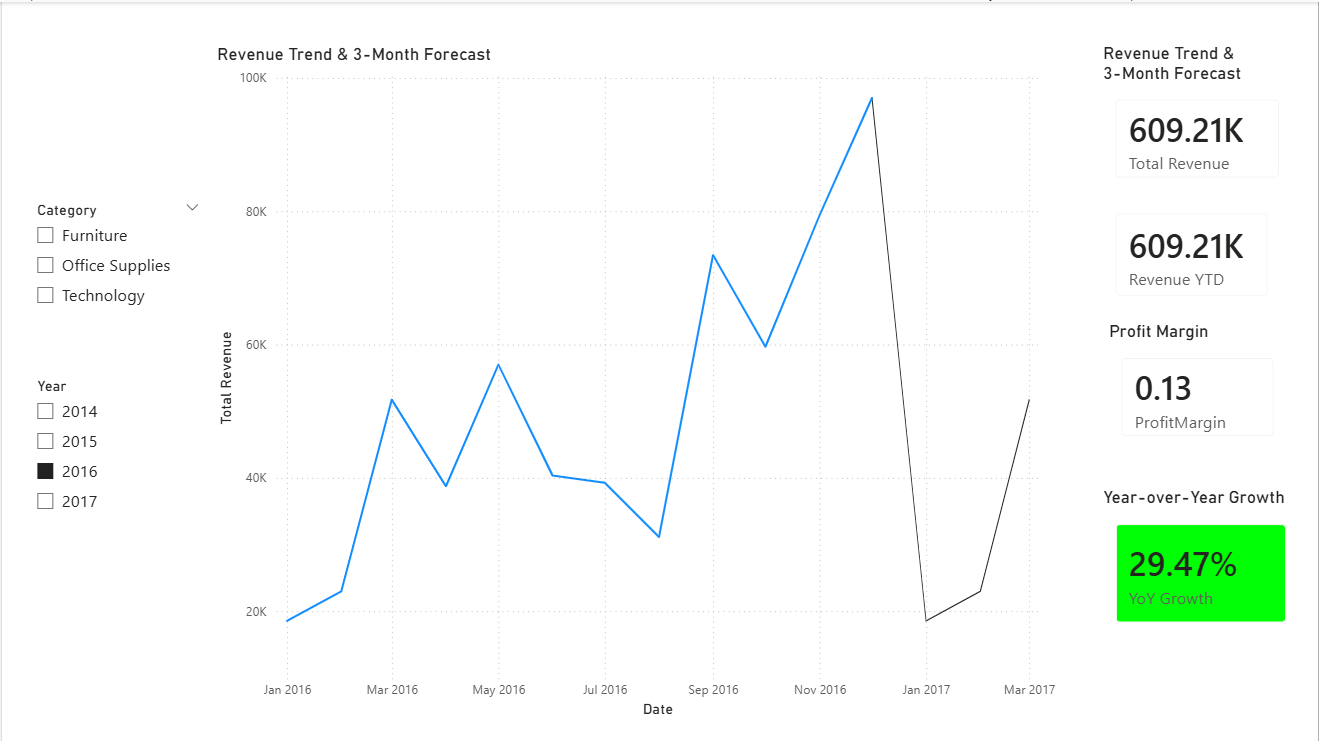

The page's visual inventory and layout, read from the dashboard file:
{"tool":"powerbi","page":{"name":"Page 1","canvas":[1280,720],"ordinal":0},"visuals":[{"type":"lineChart","title":"Revenue Trend & 3-Month Forecast","fields":{"Y":["vw_SalesForecast.Total Revenue"],"Category":["DateTable.Date"]},"box":[204.3,40.9,825.8,659.5],"z":0},{"type":"slicer","fields":{"Values":["vw_SalesForecast.Category"]},"box":[21.4,188.6,182.9,121.4],"z":1000},{"type":"cardVisual","title":"Revenue Trend & 3-Month Forecast","fields":{"Data":["vw_SalesForecast.Total Revenue"]},"box":[1066,39.9,193.6,148.8],"z":2000},{"type":"cardVisual","title":"Year-over-Year Growth","fields":{"Data":["vw_SalesForecast.YoY Growth"]},"box":[1066,471.7,200.4,149.8],"z":3000},{"type":"slicer","fields":{"Values":["DateTable.Year"]},"box":[21.4,360,145.7,150],"z":4000},{"type":"cardVisual","title":"Profit Margin","fields":{"Data":["vw_SalesForecast.ProfitMargin"]},"box":[1071.9,310.3,182.9,129.4],"z":5000},{"type":"cardVisual","fields":{"Data":["vw_SalesForecast.Sales_YTD"]},"box":[1066,188.7,182.9,114.8],"z":6000}]}

Visuals, with their boxes in screenshot pixels (x1, y1, x2, y2), scaled from the page's 1280x720 canvas onto the 1319x741 screenshot:
"Revenue Trend & 3-Month Forecast" lineChart: 211 42 1061 721
slicer - vw_SalesForecast.Category: 22 194 211 319
"Revenue Trend & 3-Month Forecast" cardVisual: 1098 41 1298 194
"Year-over-Year Growth" cardVisual: 1098 485 1305 640
slicer - DateTable.Year: 22 370 172 525
"Profit Margin" cardVisual: 1105 319 1293 453
cardVisual - vw_SalesForecast.Sales_YTD: 1098 194 1287 312
